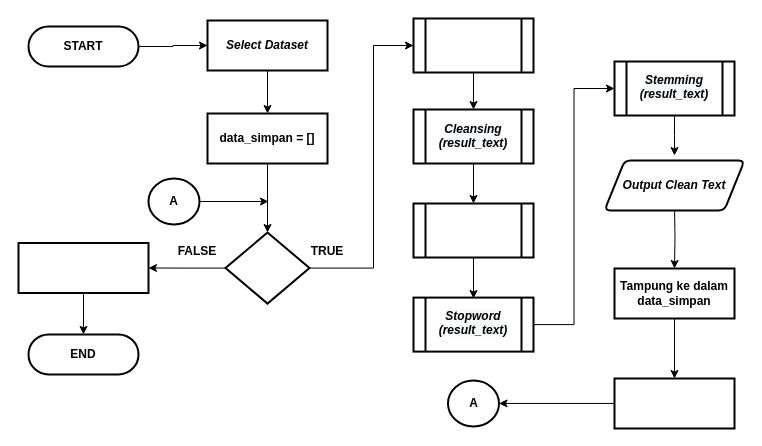
This 762x446 diagram has some shape labels left out. The shapes that lost their labels are listed below. From the top down, each one's centre as x and y in pixels, then its label:
the point at 473,45: Casefolding (result_text )
the point at 473,230: Slangword (result_text )
the point at 83,268: Insert Database ( data_simpan)
the point at 267,267: Tweet != null
the point at 674,403: Tweet selanjutnya
